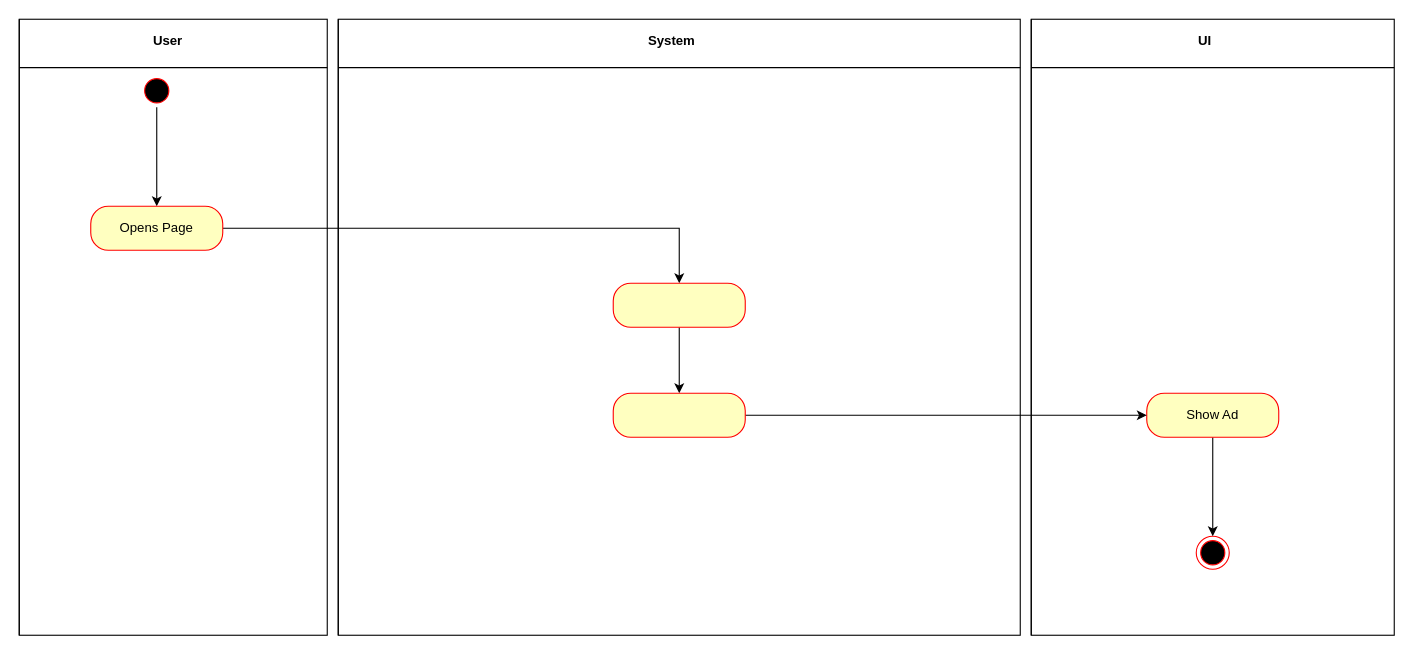
This 1414x655 diagram has some shape labels left out. The centre of each missing label's shape, as x and y in pixels:
"Request Ad from Google API" belongs at pixel 678 304.
"Wait until getting Ad as Response" belongs at pixel 678 414.
